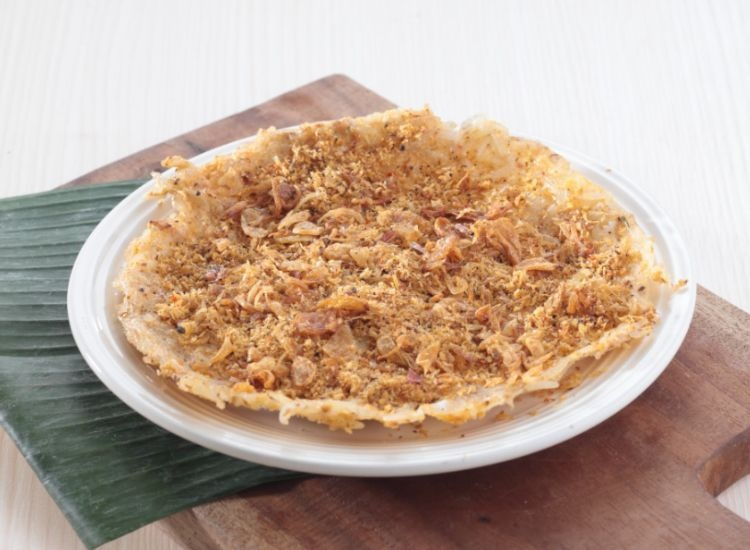kerak_telor: (118, 108, 666, 432)
